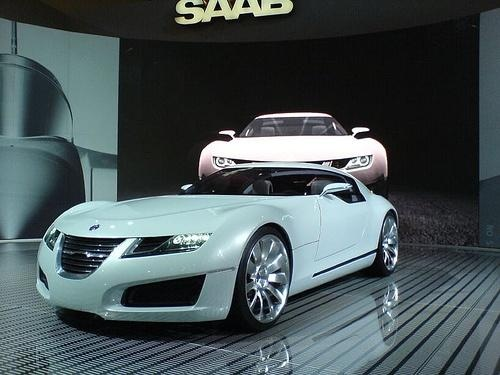car: (37, 164, 401, 333), (199, 111, 395, 191)
